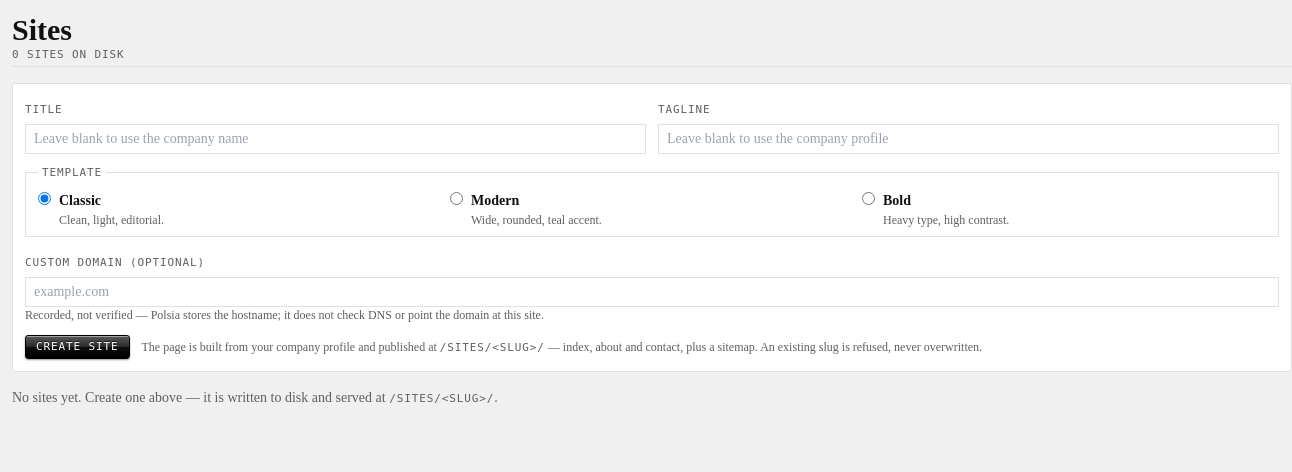
it: /sites — the create form › renders the server's refusal in place and keeps what was typed
expect the element with test id "sites-empty" is shown: met, box [12, 390, 498, 405]
In the field labelled "Title": (336, 139) [25, 124, 646, 154], type "Landing page"
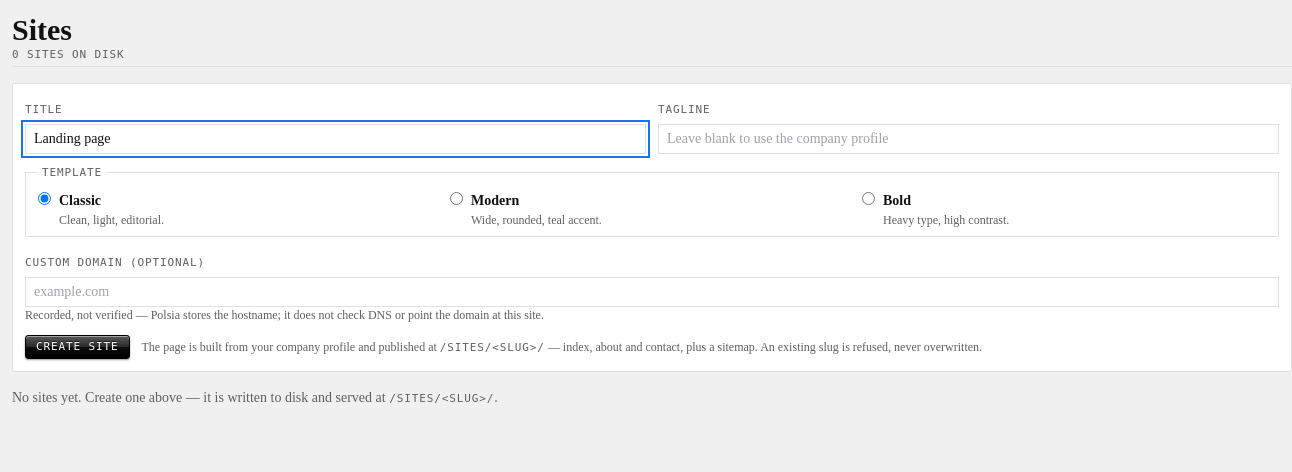
Click the button "Create site": (77, 347) [25, 334, 130, 359]
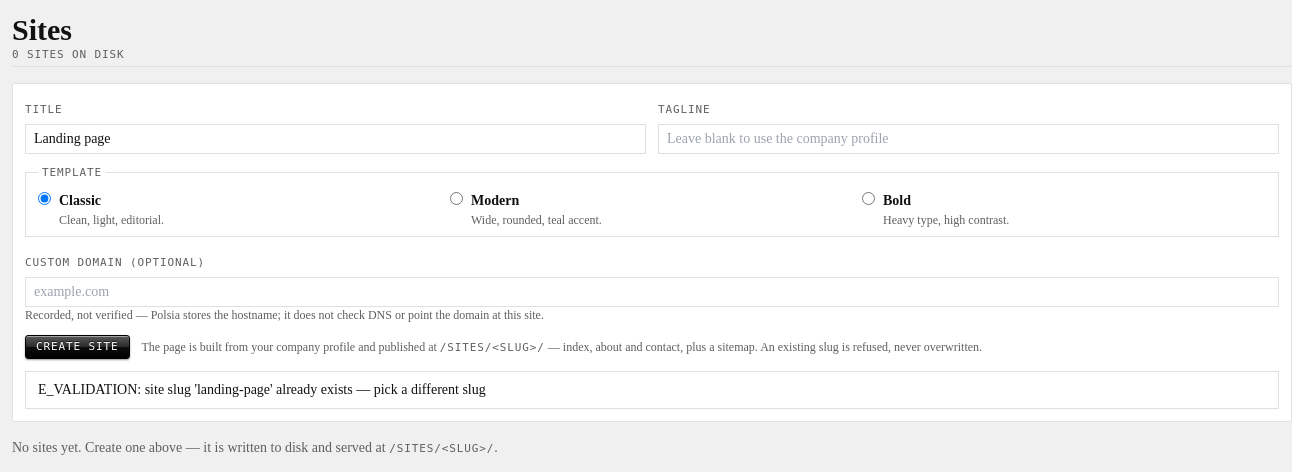
expect the message with test id "sites-create-error" shows "E_VALIDATION": met, box [38, 382, 486, 397]
expect the message with test id "sites-create-error" shows "already exists": met, box [38, 382, 486, 397]
expect the message with test id "sites-create-error" shows "pick a different slug": met, box [38, 382, 486, 397]
